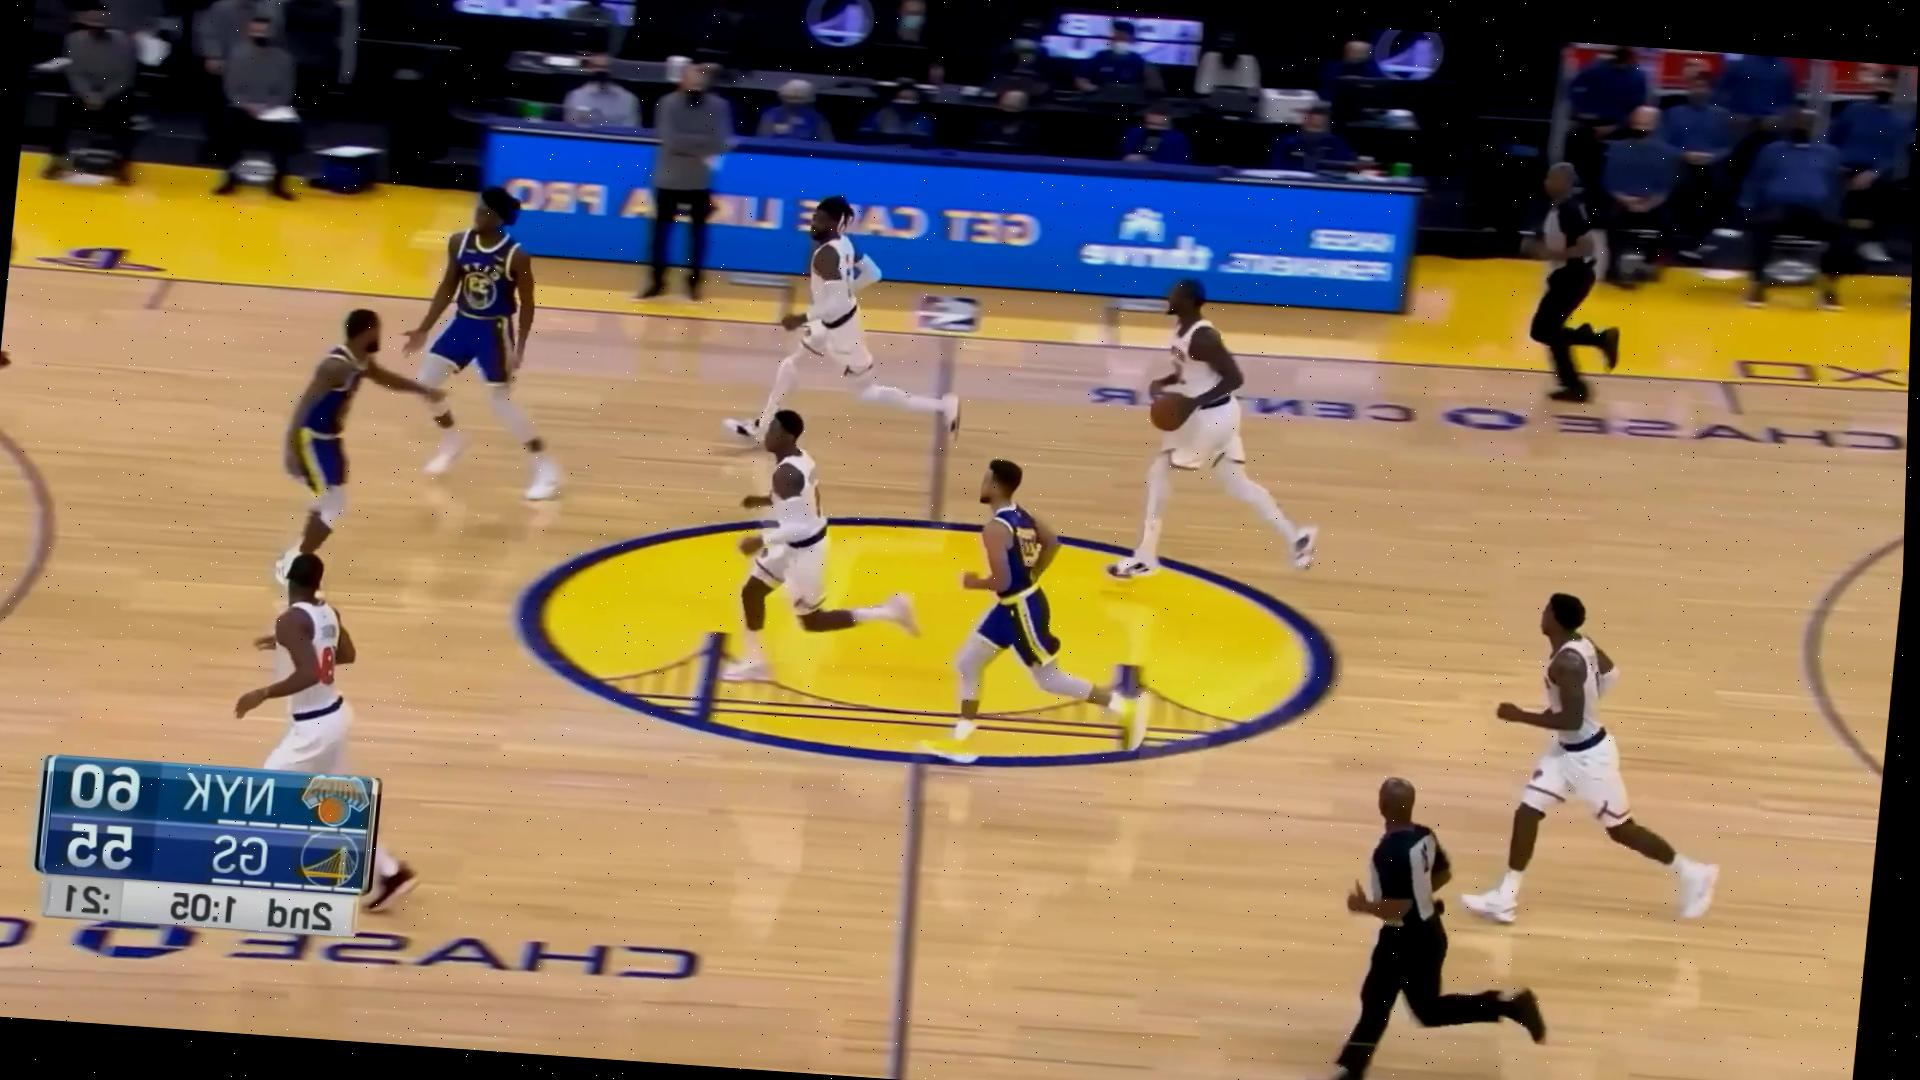no_foul: (1104, 233, 1364, 592)
